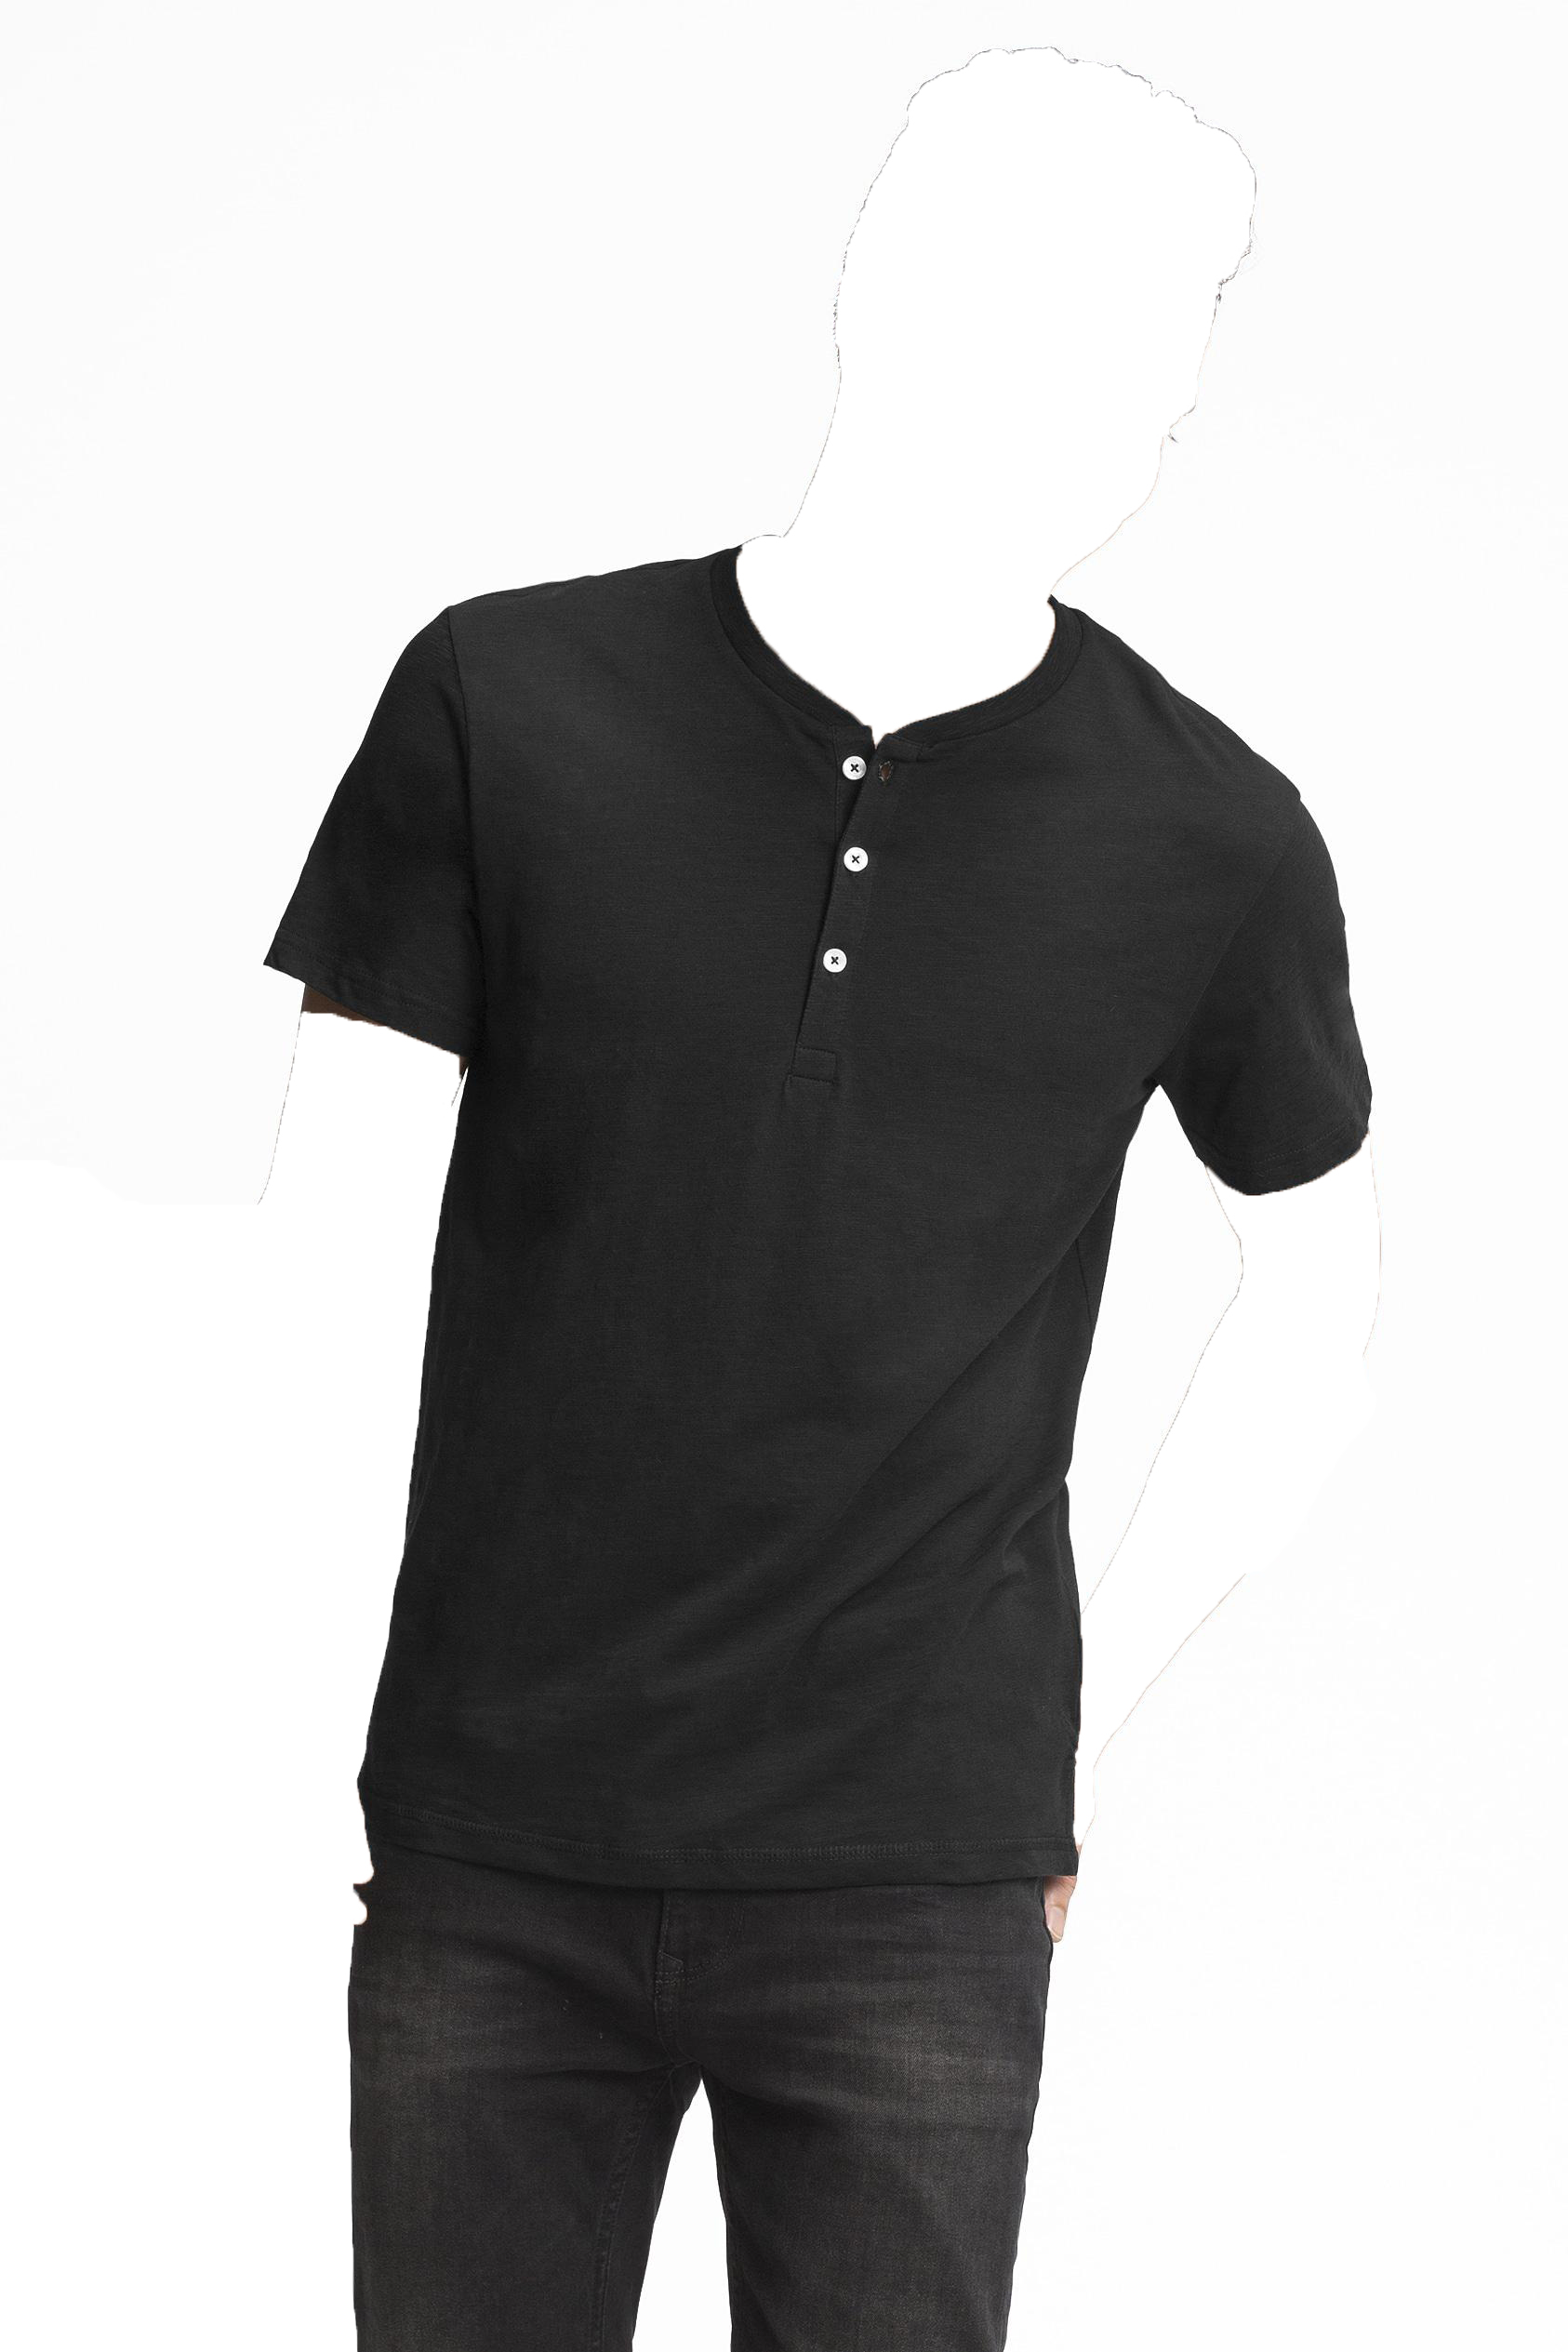teeshirt: (255, 528, 1393, 2009)
